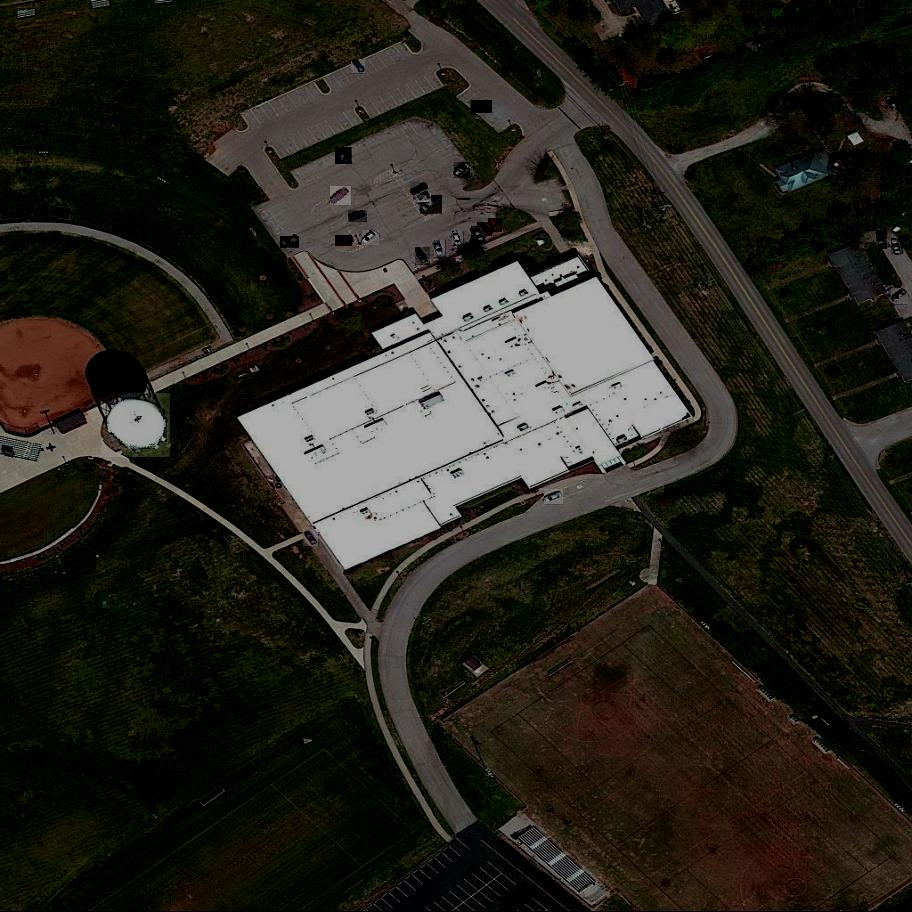large-vehicle: (420, 195, 442, 216)
small-vehicle: (331, 186, 353, 206), (891, 288, 909, 307), (336, 147, 353, 166), (544, 489, 564, 505), (471, 100, 493, 114), (362, 231, 380, 248), (410, 182, 429, 197), (415, 247, 430, 266), (488, 217, 504, 234), (304, 528, 319, 546), (471, 226, 485, 245), (455, 163, 471, 179), (348, 211, 367, 224), (351, 59, 365, 76), (877, 229, 888, 250), (280, 237, 300, 248), (453, 229, 465, 247), (478, 223, 493, 237), (335, 236, 354, 247), (435, 240, 446, 258), (892, 237, 903, 255), (414, 193, 432, 203), (886, 96, 897, 110)
storage-tank: (101, 393, 171, 457)
